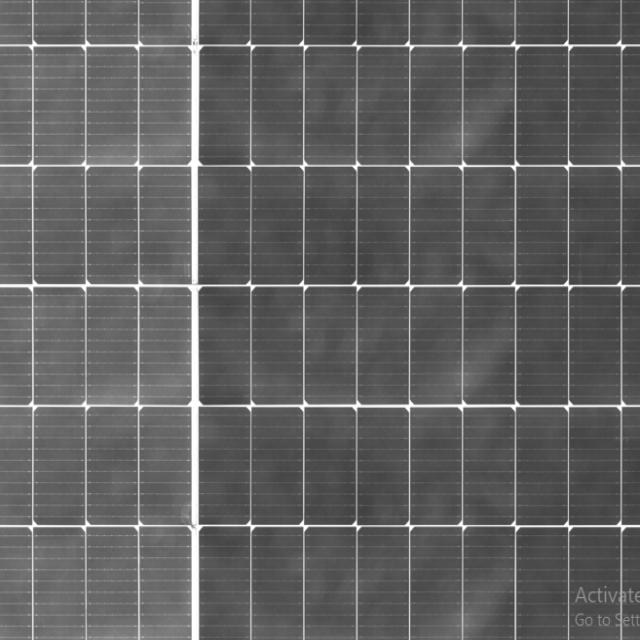CORRECT: (197, 0, 640, 638), (0, 0, 254, 640)
